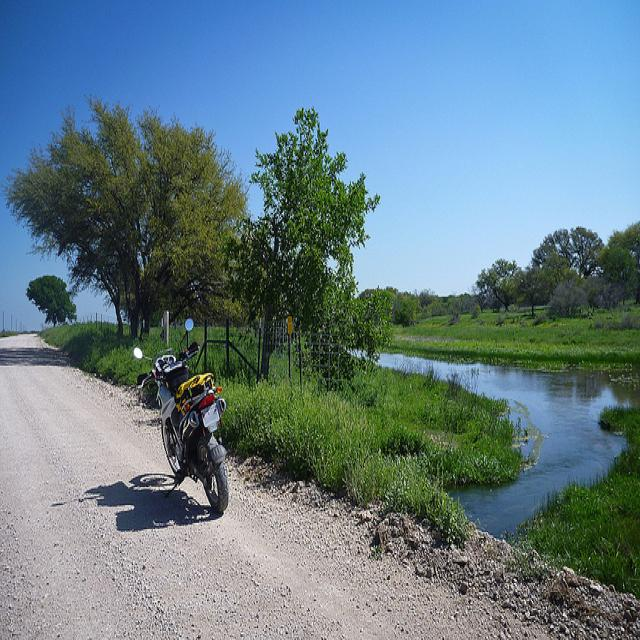motor: (157, 342, 231, 515)
